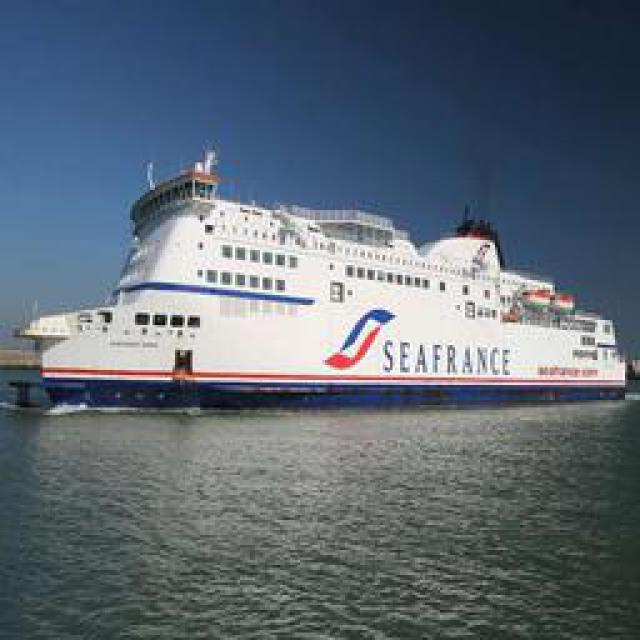Ship: (24, 161, 624, 406)
